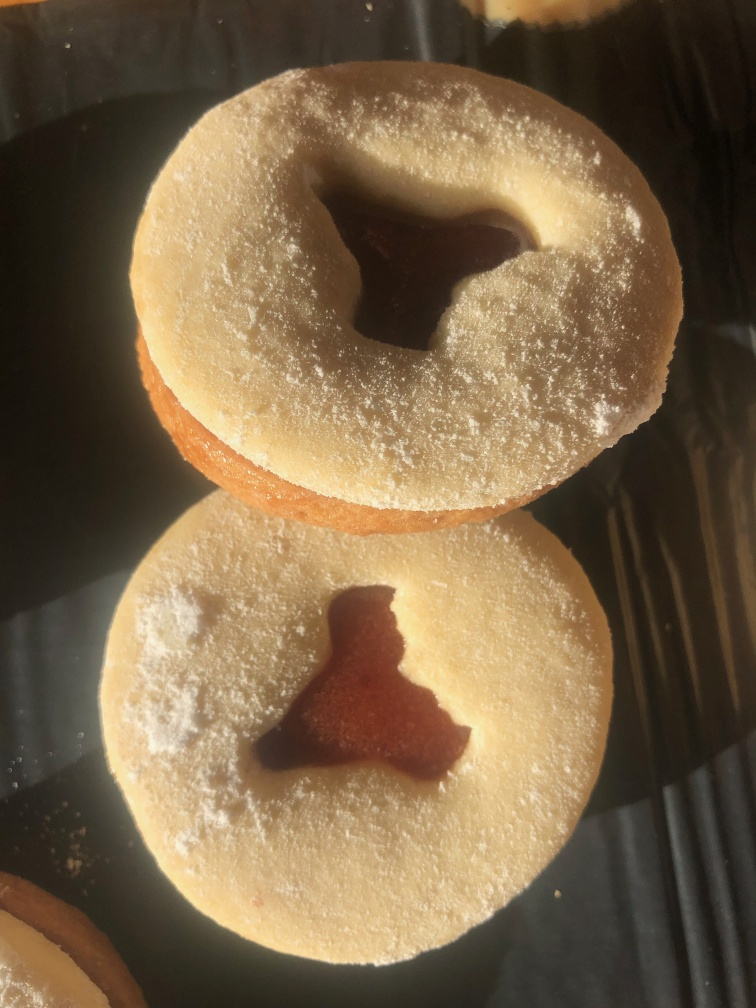christmas shortbread with jam: (122, 62, 681, 527), (107, 496, 624, 969)
